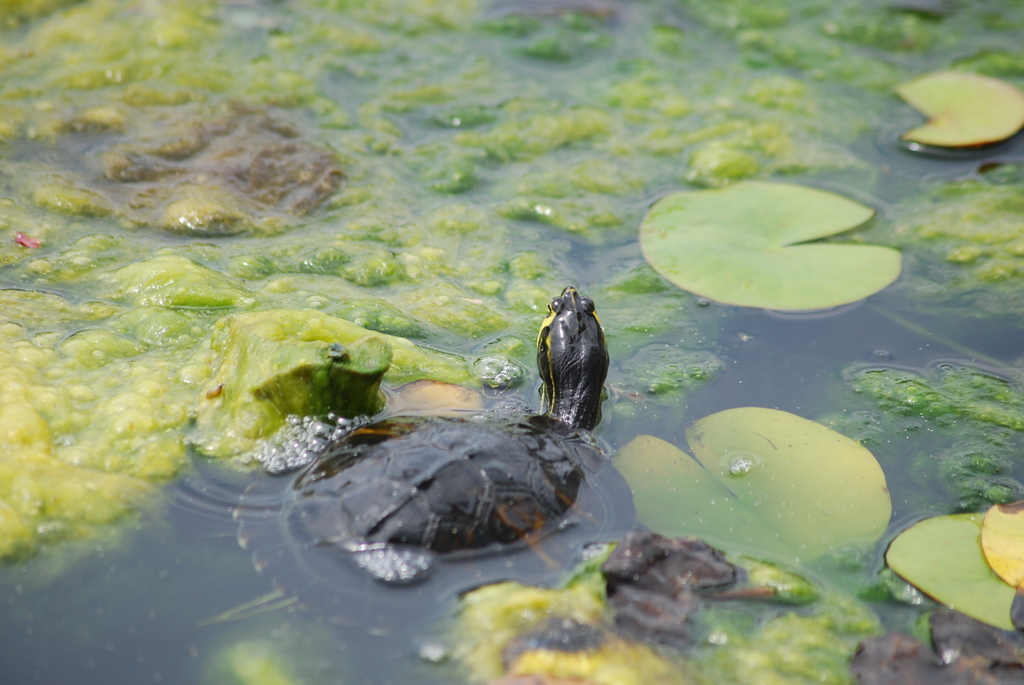Sea turtles: (167, 281, 640, 645)
